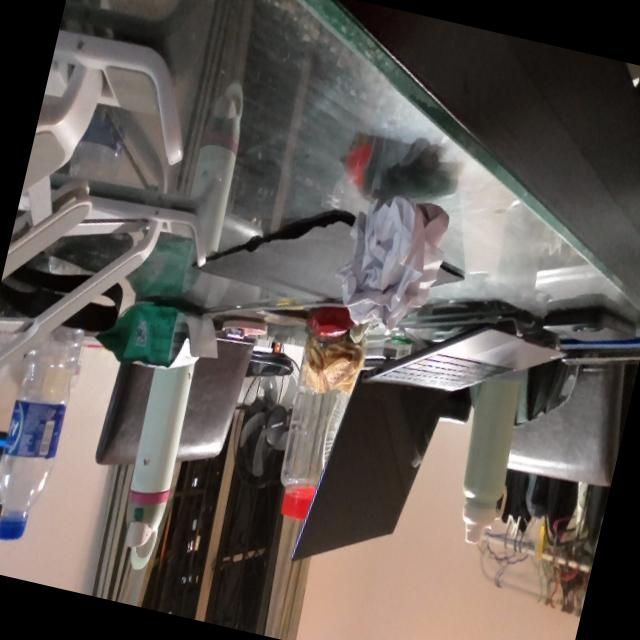crumpled_paper: (325, 182, 456, 345)
